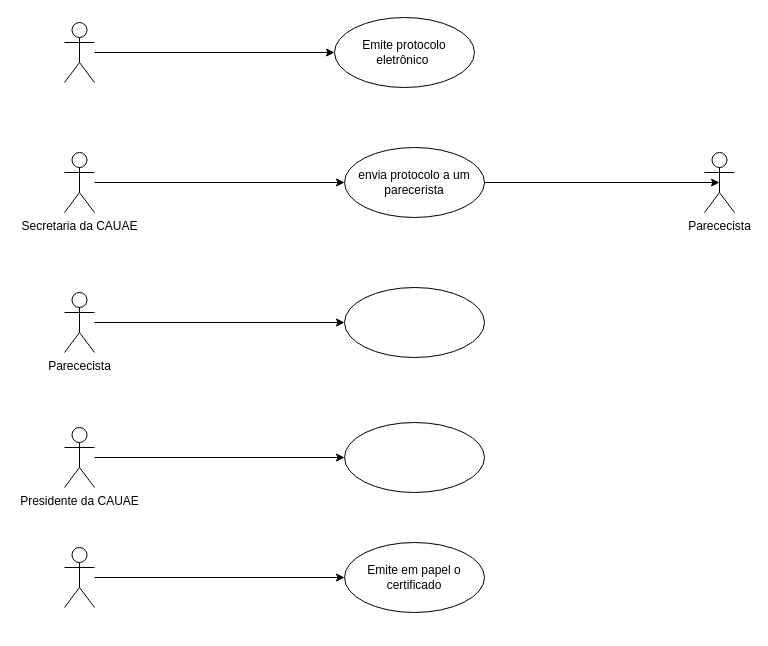
Some shapes in this 768 by 646 pixel diagram are drawn without their labels. Each missing label, with the centre of its shape:
Aprovação final: the point at 414,457
Docente: the point at 79,52
Emite parecer: the point at 414,322
Secretária da comissão: the point at 79,577
